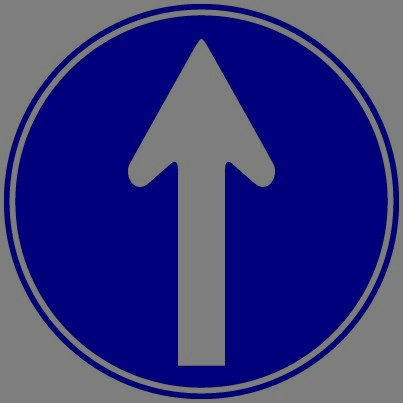Direction_sign: (1, 1, 401, 400)
